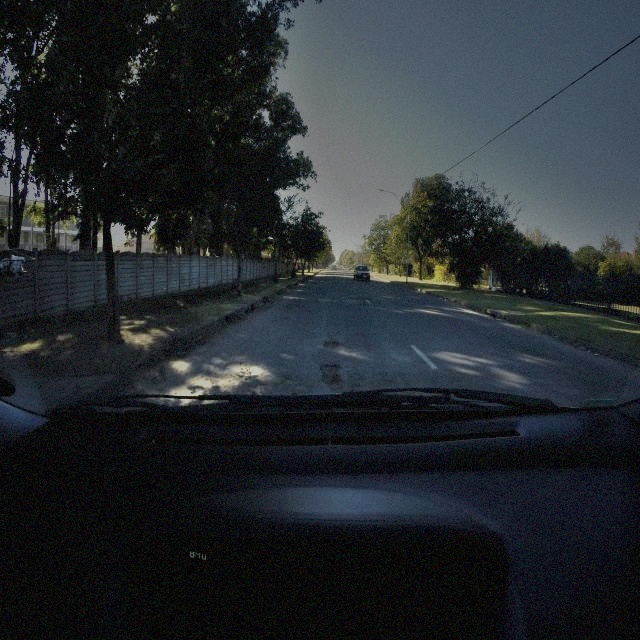pothole: (319, 360, 343, 388), (324, 337, 342, 350)
